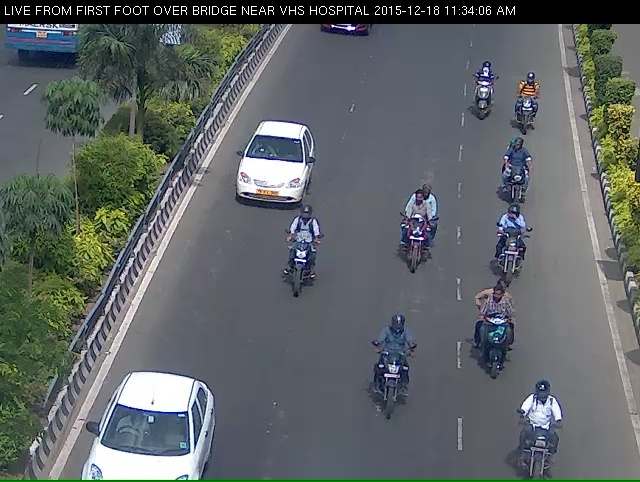Car: (73, 401, 217, 480), (223, 125, 324, 223)
Person: (467, 304, 532, 402), (362, 335, 421, 439), (278, 222, 322, 324), (485, 220, 540, 297), (513, 406, 564, 479), (395, 198, 435, 290), (497, 146, 541, 221), (468, 56, 497, 129), (507, 82, 544, 138)
